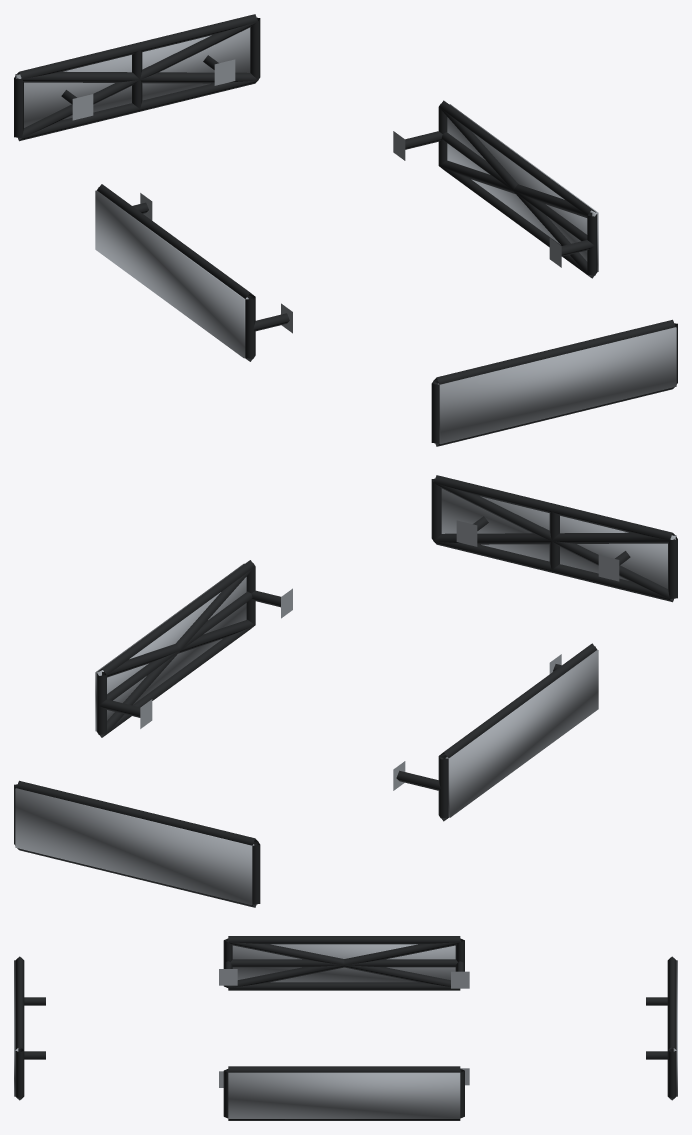
The model's file is morel_feno_protecao.glb.
3 views of the same model, one above another, from view 1: azimuth 30°, elevation 25°; view 2: azimuth 150°, elevation 25°; view 3: azimuth 270°, elevation 25° (orthographic). The views are drawn at different scales.
Parts seen in each view (by area): view 1: Protection_front_Level3_Details, Protection_left_Level3_Details, Protection_rear_Level1_Details, Protection_rear_Level3_Details, Protection_right_Level1_Details, Protection_rear_Level2_Details, Protection_right_Level2_Details, Protection_right_Level3_Details, Protection_front_Level1_Details, Protection_left_Level1_Details; view 2: Protection_rear_Level3_Details, Protection_left_Level3_Details, Protection_front_Level1_Details, Protection_front_Level3_Details, Protection_right_Level1_Details, Protection_front_Level2_Details, Protection_right_Level2_Details, Protection_right_Level3_Details, Protection_rear_Level1_Details, Protection_left_Level1_Details; view 3: Protection_right_Level3_Details, Protection_left_Level1_Details, Protection_left_Level2_Details, Protection_left_Level3_Details, Protection_right_Level1_Details, Protection_rear_Level1_Details, Protection_front_Level1_Details.
Boxes of the visible parts, x1,y1,x2,y2 form: Protection_front_Level3_Details: (437,327,676,444); Protection_left_Level3_Details: (95,190,248,358); Protection_rear_Level1_Details: (14,14,260,141); Protection_rear_Level3_Details: (15,27,250,127); Protection_right_Level1_Details: (393,100,597,278); Protection_rear_Level2_Details: (16,21,257,139); Protection_right_Level2_Details: (439,107,596,277); Protection_right_Level3_Details: (447,104,598,271); Protection_front_Level1_Details: (431,319,677,446); Protection_left_Level1_Details: (97,184,292,361); Protection_rear_Level3_Details: (15,788,254,905); Protection_left_Level3_Details: (445,650,598,817); Protection_front_Level1_Details: (431,475,677,602); Protection_front_Level3_Details: (441,488,676,588); Protection_right_Level1_Details: (96,560,292,737); Protection_front_Level2_Details: (434,482,675,600); Protection_right_Level2_Details: (98,567,254,737); Protection_right_Level3_Details: (95,563,246,731); Protection_rear_Level1_Details: (14,780,260,907); Protection_left_Level1_Details: (393,643,597,821); Protection_right_Level3_Details: (228,1072,460,1118); Protection_left_Level1_Details: (219,936,469,990); Protection_left_Level2_Details: (227,939,460,988); Protection_left_Level3_Details: (232,944,455,982); Protection_right_Level1_Details: (219,1066,469,1120); Protection_rear_Level1_Details: (646,956,676,1100); Protection_front_Level1_Details: (15,956,45,1100).
Size of the model in its own units: 1.89 by 0.354 by 3.92.
1 material, 1 textured.
